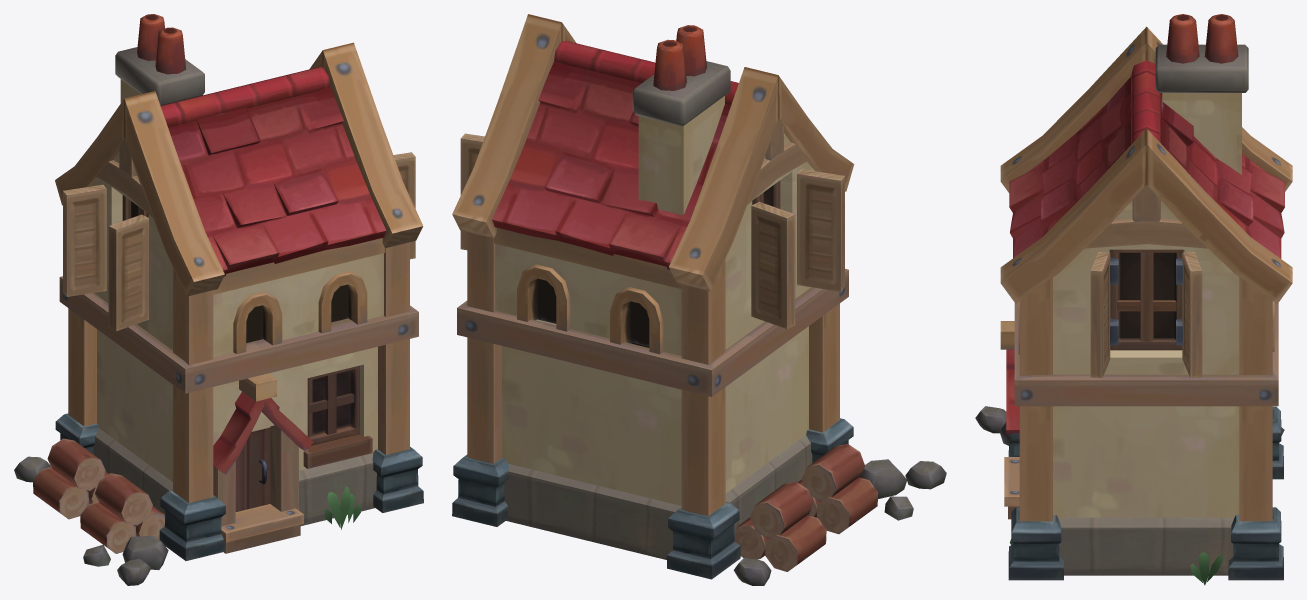
File: house4.glb
The picture shows the model from 3 angles, left to right: view 1: azimuth 30°, elevation 25°; view 2: azimuth 150°, elevation 25°; view 3: azimuth 270°, elevation 25°; orthographic projection. The views are drawn at different scales.
Parts seen in each view (by area): view 1: model_0; view 2: model_0; view 3: model_0.
Boxes of the visible parts, <box> form: model_0: <box>14,14,423,585</box>; model_0: <box>452,14,946,585</box>; model_0: <box>975,14,1292,585</box>.
Bounding box in the file's own units: 1657 × 2106 × 1244.
1 material, 1 textured.
